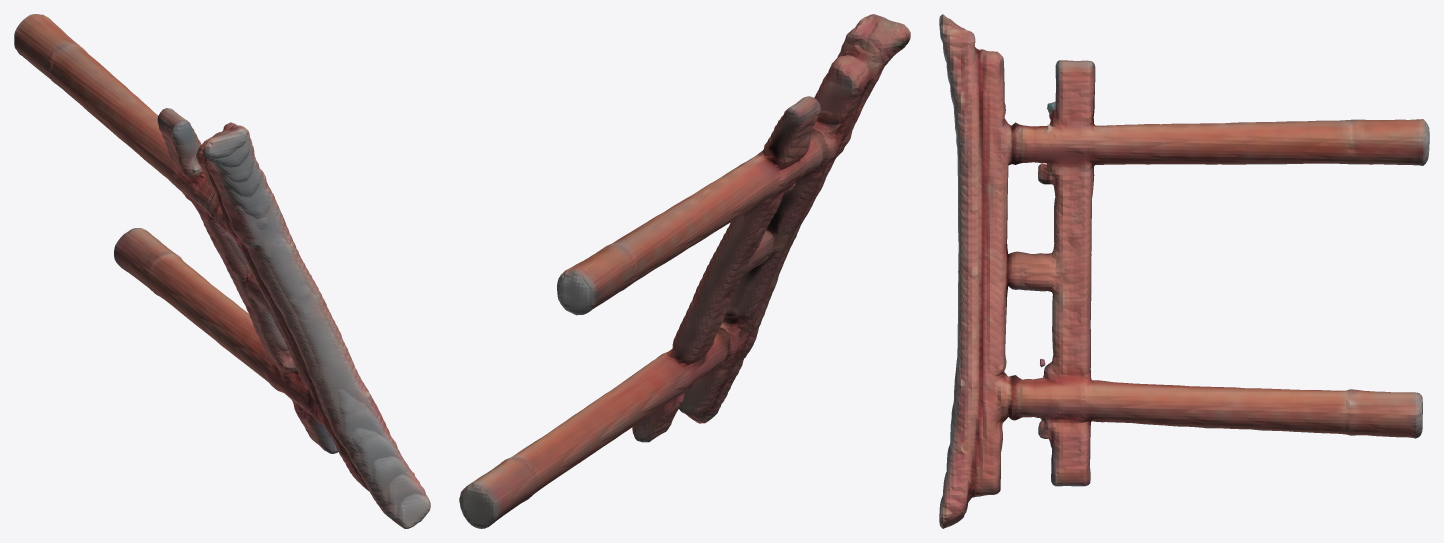
File: torii_gate_triposr.glb
The picture shows the model from 3 angles, left to right: view 1: azimuth 30°, elevation 25°; view 2: azimuth 150°, elevation 25°; view 3: azimuth 270°, elevation 25°; orthographic projection. The views are drawn at different scales.
Parts seen in each view (by area): view 1: world; view 2: world; view 3: world.
Part boxes in pixels (x1,y1,x2,y2): world: [14, 14, 430, 528]; world: [459, 14, 910, 528]; world: [939, 14, 1429, 528].
Bounding box in the file's own units: 0.4702 × 0.8777 × 0.9202.
